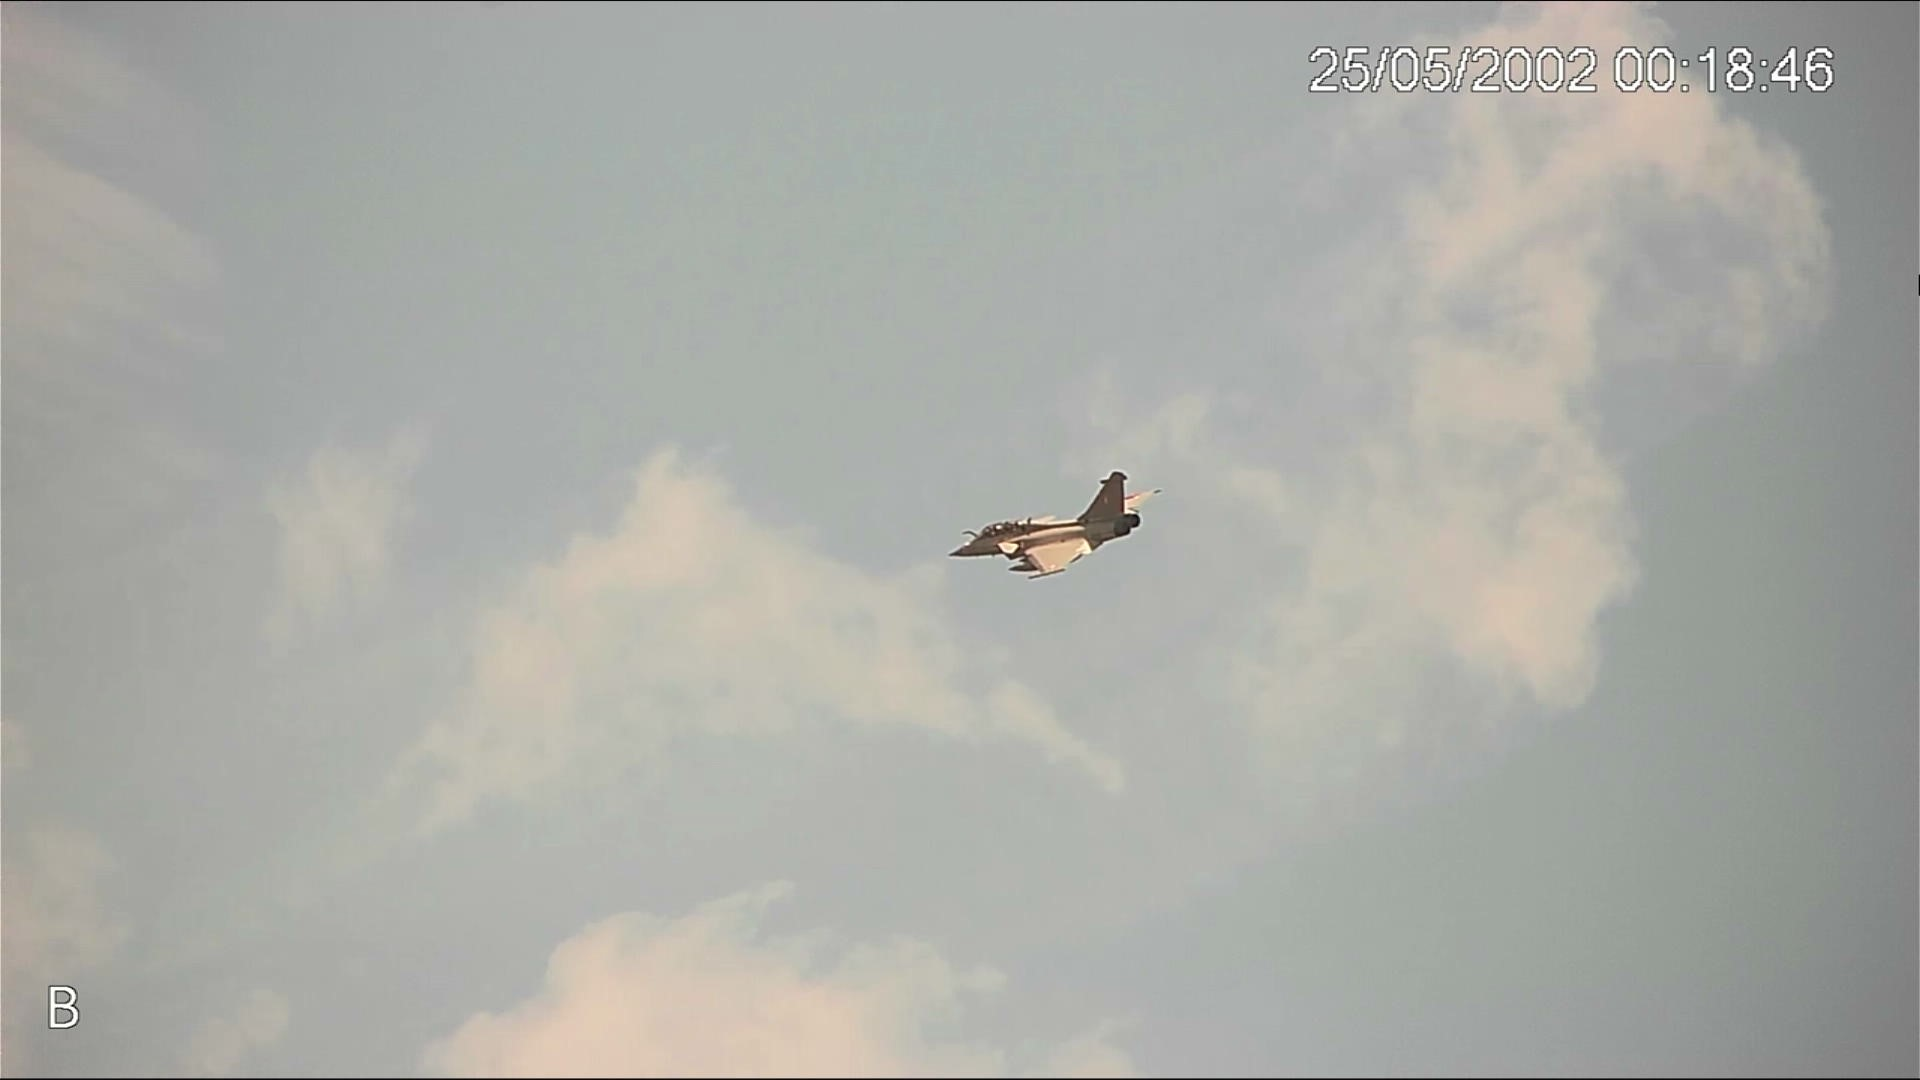SU_30: (936, 469, 1168, 582)
